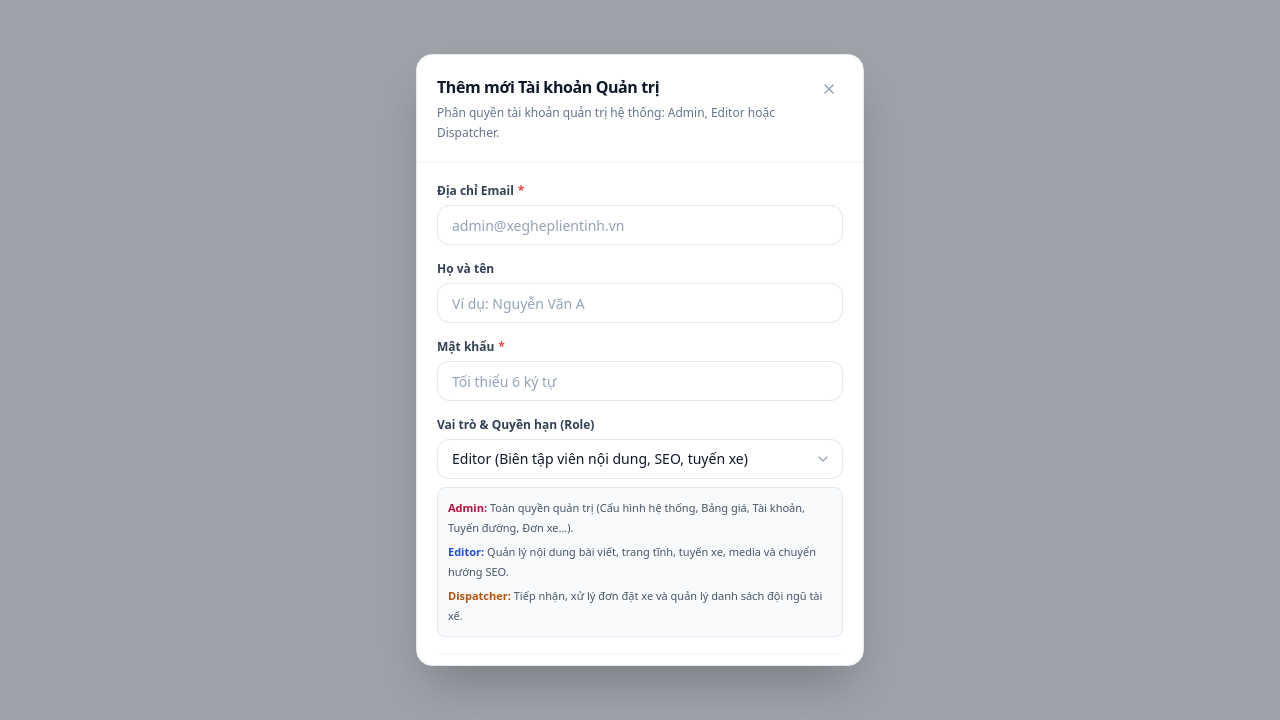
Users Module (Task T120 - Chỉ Admin) › UserFormModal Component › báo lỗi khi tạo mới user mà thiếu mật khẩu hoặc mật khẩu ngắn hơn 6 ký tự
Step 1. Type "newuser@xegheplientinh.vn" into the field labelled "Địa chỉ Email*" → (640, 225), box [437,205,843,245]
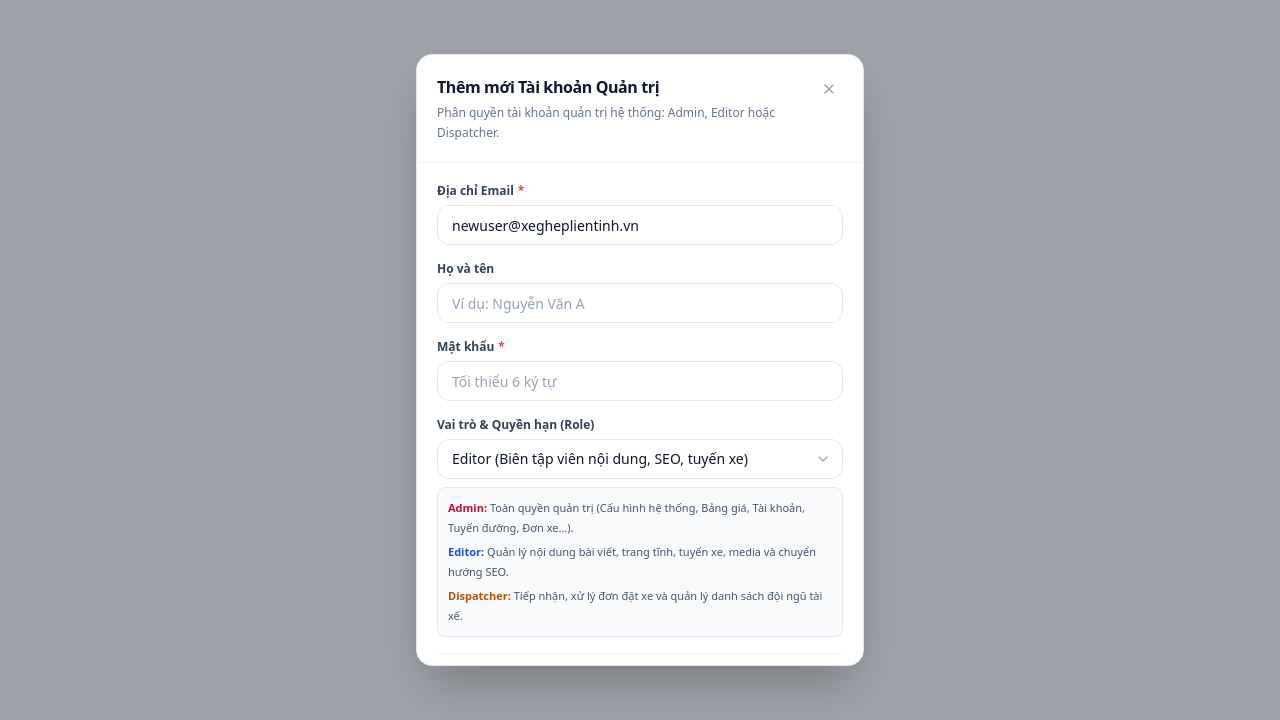
Step 2. Type "123" into the password field labelled "Mật khẩu*" → (640, 381), box [437,361,843,401]
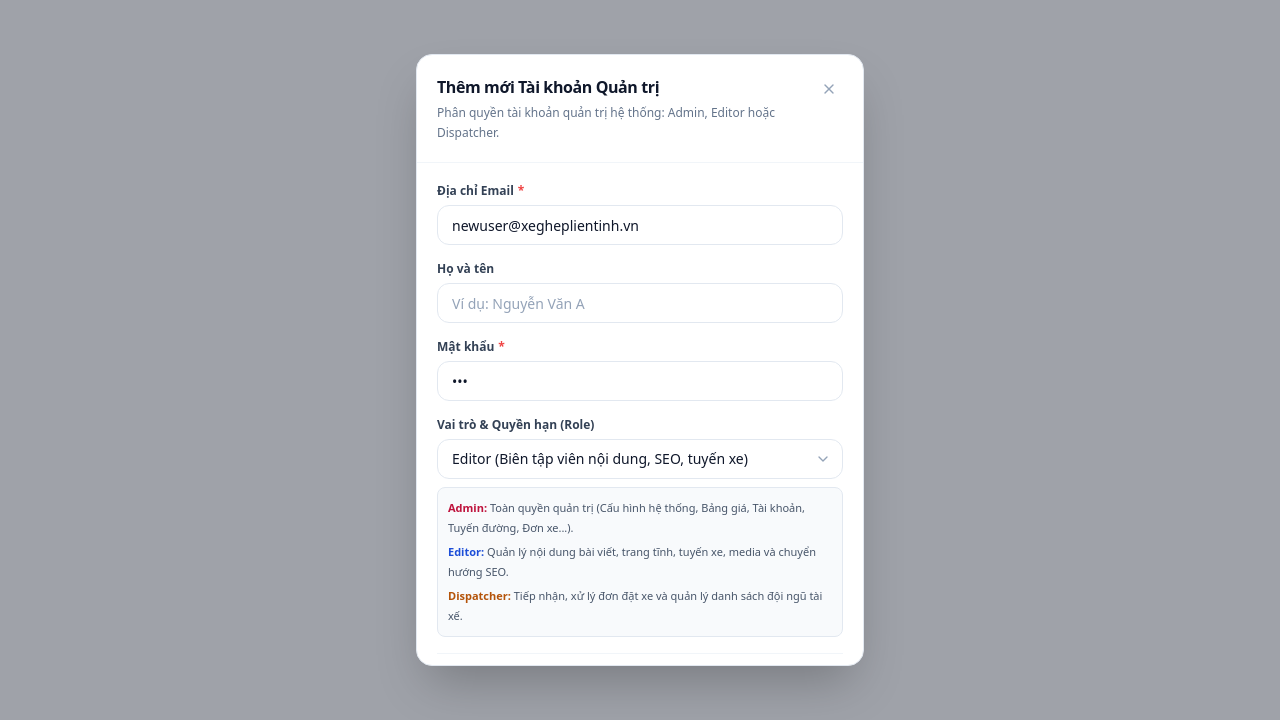
Step 3. Submit the form named "Tạo tài khoản", box [437,183,843,706]
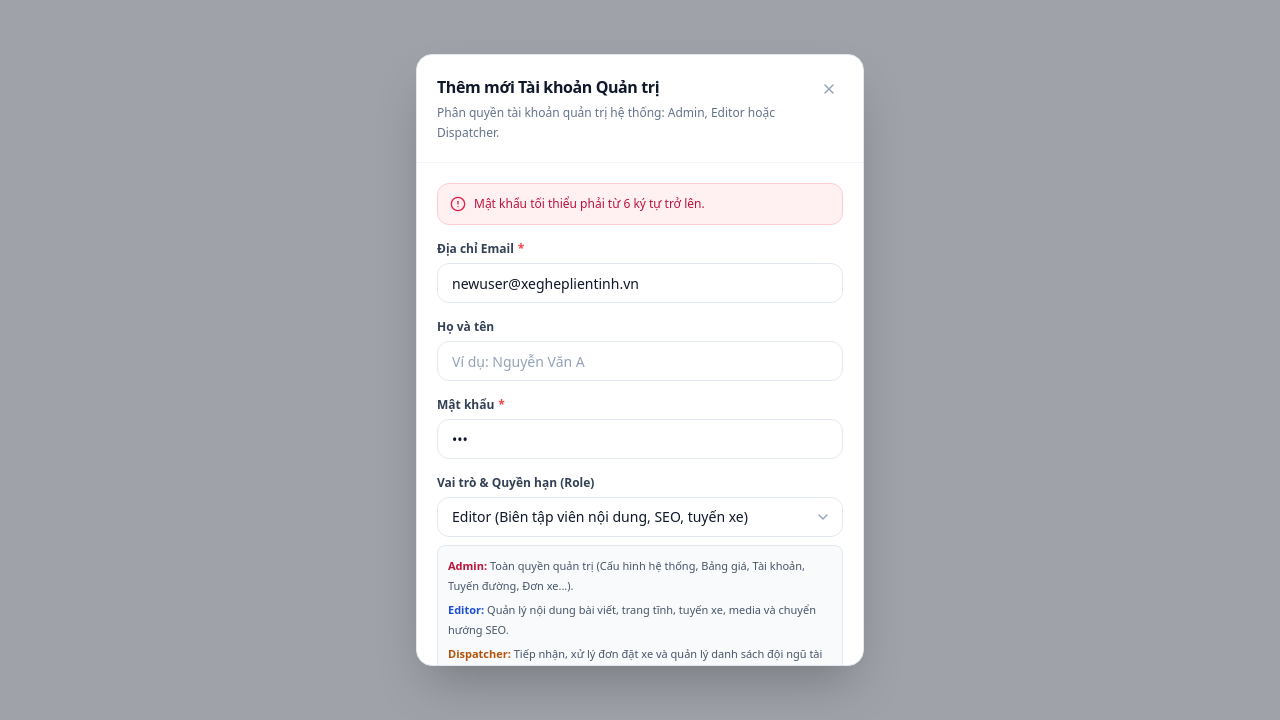
Expected: the text "Mật khẩu tối thiểu phải từ 6 ký tự trở lên." is shown, [474,196,705,212]
